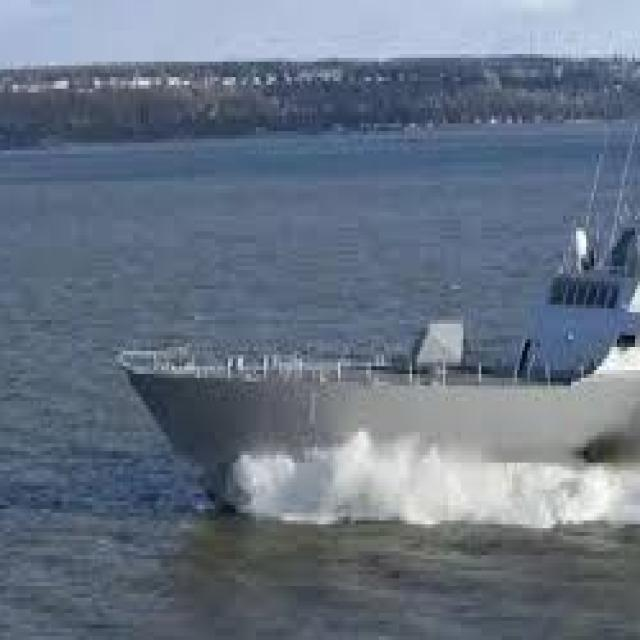navalvessels: (128, 100, 640, 478)
